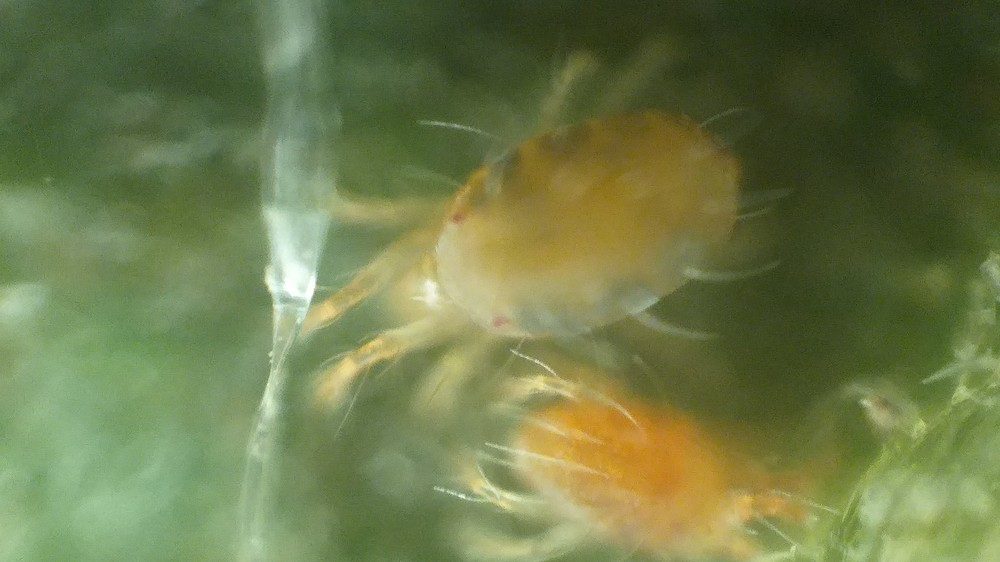Aracnido Rojo: (277, 38, 828, 436), (445, 362, 885, 562)
